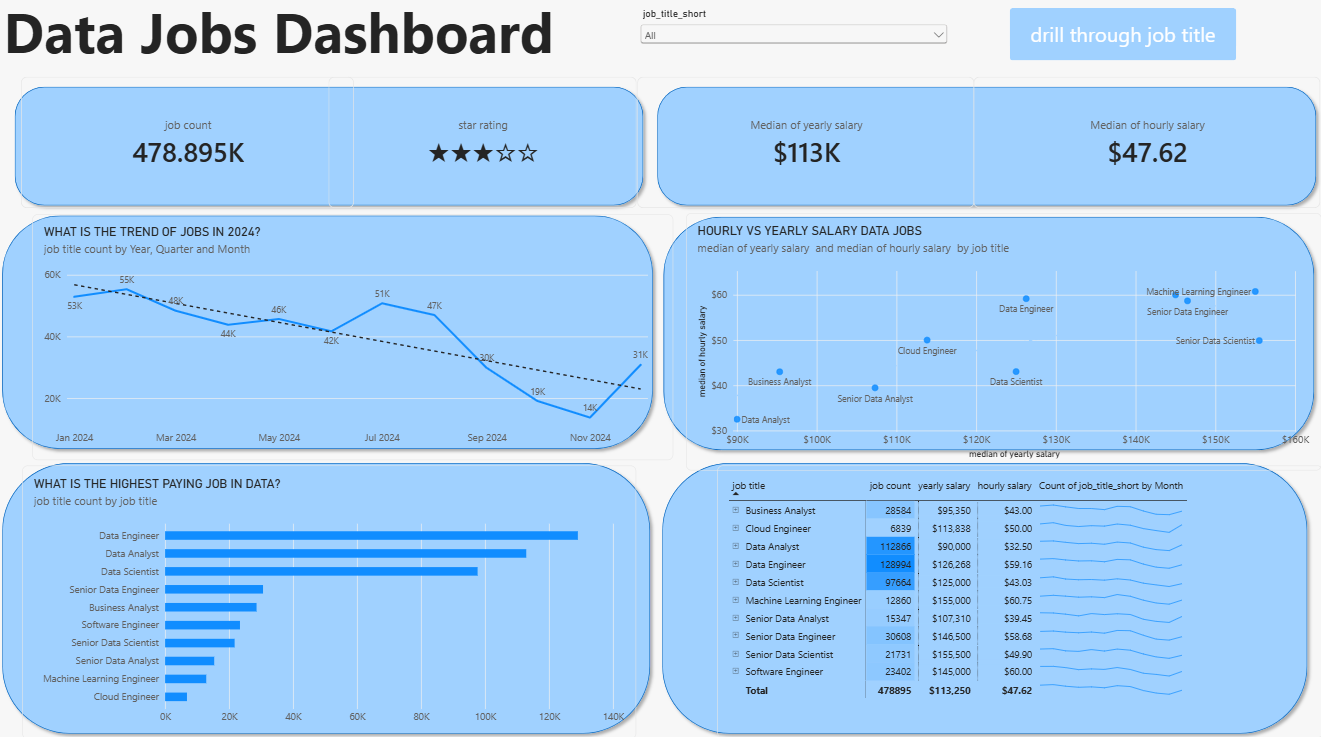

The page's visual inventory and layout, read from the dashboard file:
{"tool":"powerbi","page":{"name":"DATA JOB DASH","canvas":[1920,1080],"ordinal":0},"visuals":[{"type":"group","id":"g1","title":"BACKGROUND","box":[0,125.8,1920,954.2],"z":0},{"type":"textbox","box":[10.9,0,1406.1,126.7],"z":1000},{"type":"slicer","fields":{"Values":["job_postings_flat.job_title_short"]},"box":[928,22,454,60],"z":2000},{"type":"cardVisual","fields":{"Data":["job_postings_flat.star rating"]},"box":[482,122,446,190],"z":3000},{"type":"cardVisual","fields":{"Data":["Median(job_postings_flat.salary_year_avg)"]},"box":[928,122,488,190],"z":4000},{"type":"cardVisual","fields":{"Data":["CountNonNull(job_postings_flat.job_title_short)"]},"box":[36.2,121.2,482,190],"z":5000},{"type":"cardVisual","fields":{"Data":["Median(job_postings_flat.salary_hour_avg)"]},"box":[1416,122,502,190],"z":6000},{"type":"lineChart","title":"WHAT IS THE TREND OF JOBS IN 2024?","fields":{"Category":["job_postings_flat.job_posted_date.Variation.Date Hierarchy.Year","job_postings_flat.job_posted_date.Variation.Date Hierarchy.Quarter","job_postings_flat.job_posted_date.Variation.Date Hierarchy.Month","job_postings_flat.job_posted_date.Variation.Date Hierarchy.Day"],"Y":["CountNonNull(job_postings_flat.job_title_short)"]},"box":[53.3,320.1,928,356],"z":7000},{"type":"barChart","title":"WHAT IS THE HIGHEST PAYING JOB IN DATA?","fields":{"Category":["job_postings_flat.job_title_short"],"Y":["CountNonNull(job_postings_flat.job_title_short)"]},"box":[38,684.1,888.5,396.3],"z":8000},{"type":"scatterChart","title":"HOURLY VS YEARLY SALARY DATA JOBS","fields":{"Category":["job_postings_flat.job_title_short"],"X":["Median(job_postings_flat.salary_year_avg)"],"Y":["Median(job_postings_flat.salary_hour_avg)"]},"box":[999.7,319.3,920.1,372.6],"z":9000},{"type":"shape","box":[18.1,125.8,928,190],"z":10000,"group":"g1"},{"type":"pivotTable","fields":{"Rows":["job_postings_flat.job_title_short","job_postings_flat.job_posted_date.Variation.Date Hierarchy.Quarter"],"Values":["CountNonNull(job_postings_flat.job_title_short)","Median(job_postings_flat.salary_year_avg)","Median(job_postings_flat.salary_hour_avg)","SparklineData(CountNonNull(job_postings_flat.job_title_short)_[job_postings_flat.job_posted_date.Variation.Date Hierarch"]},"box":[1043.5,684.5,876.5,394.4],"z":10000},{"type":"actionButton","box":[1468,22,328,76],"z":11000},{"type":"shape","box":[0,312,960,356],"z":11000,"group":"g1"},{"type":"shape","box":[948,126,972,190],"z":12000,"group":"g1"},{"type":"shape","box":[958,314,960,356],"z":13000,"group":"g1"},{"type":"shape","box":[956,670,952,410],"z":14000,"group":"g1"},{"type":"shape","box":[0,670,956,410],"z":15000,"group":"g1"}]}

Visuals, with their boxes in screenshot pixels (x1, y1, x2, y2), scaled from the page's 1920x1080 canvas onto the 1321x737 screenshot:
"BACKGROUND" group: 0 86 1320 736
textbox: 7 0 975 86
slicer - job_postings_flat.job_title_short: 638 15 951 56
cardVisual - job_postings_flat.star rating: 332 83 638 213
cardVisual - Median(job_postings_flat.salary_year_avg): 638 83 974 213
cardVisual - CountNonNull(job_postings_flat.job_title_short): 25 83 357 212
cardVisual - Median(job_postings_flat.salary_hour_avg): 974 83 1320 213
"WHAT IS THE TREND OF JOBS IN 2024?" lineChart: 37 218 675 461
"WHAT IS THE HIGHEST PAYING JOB IN DATA?" barChart: 26 467 637 736
"HOURLY VS YEARLY SALARY DATA JOBS" scatterChart: 688 218 1320 472
shape: 12 86 651 216
pivotTable - job_postings_flat.job_title_short x job_postings_flat.job_posted_date.Variation.Date Hierarchy.Quarter: 718 467 1320 736
actionButton: 1010 15 1236 67
shape: 0 213 660 456
shape: 652 86 1320 216
shape: 659 214 1320 457
shape: 658 457 1313 736
shape: 0 457 658 736
